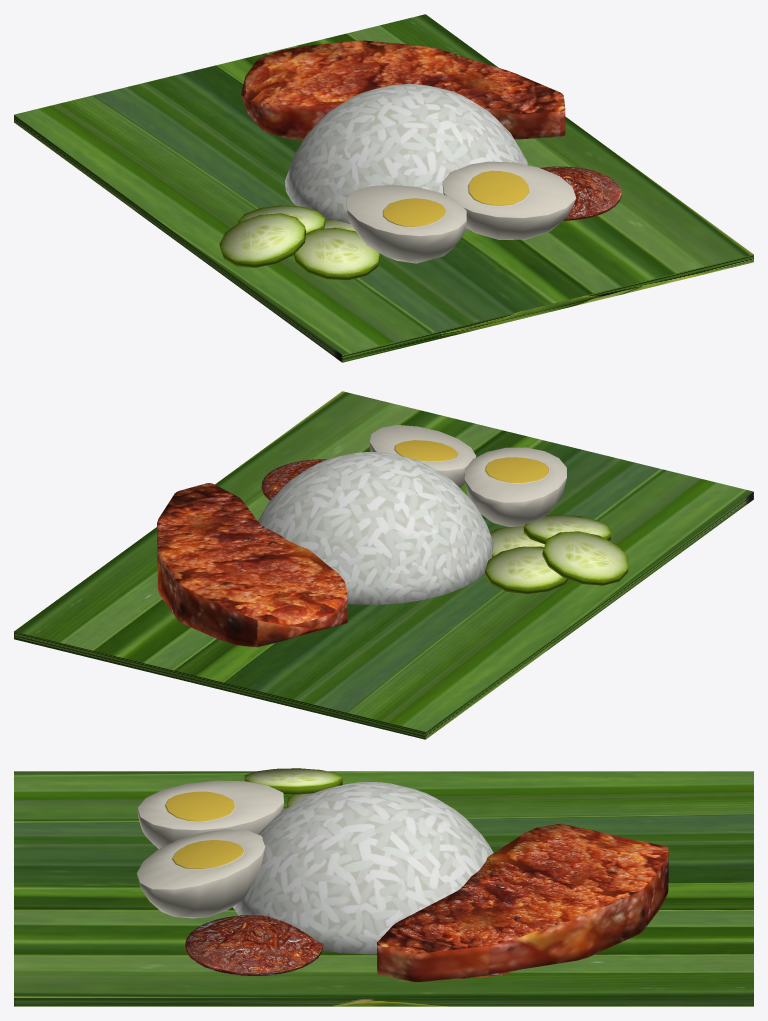
File: finishedNasiLemak.fbx
The picture shows the model from 3 angles, top to bottom: view 1: azimuth 30°, elevation 25°; view 2: azimuth 150°, elevation 25°; view 3: azimuth 270°, elevation 25°; orthographic projection. The views are drawn at different scales.
Visible parts, largest first — view 1: nasilemakJOINED; view 2: nasilemakJOINED; view 3: nasilemakJOINED.
Part boxes in pixels (x1,y1,x2,y2): nasilemakJOINED: (14, 14, 753, 362); nasilemakJOINED: (14, 391, 753, 739); nasilemakJOINED: (14, 768, 753, 1006).
Bounding box in the file's own units: 157 × 35.16 × 217.
7 materials, 5 textured.
